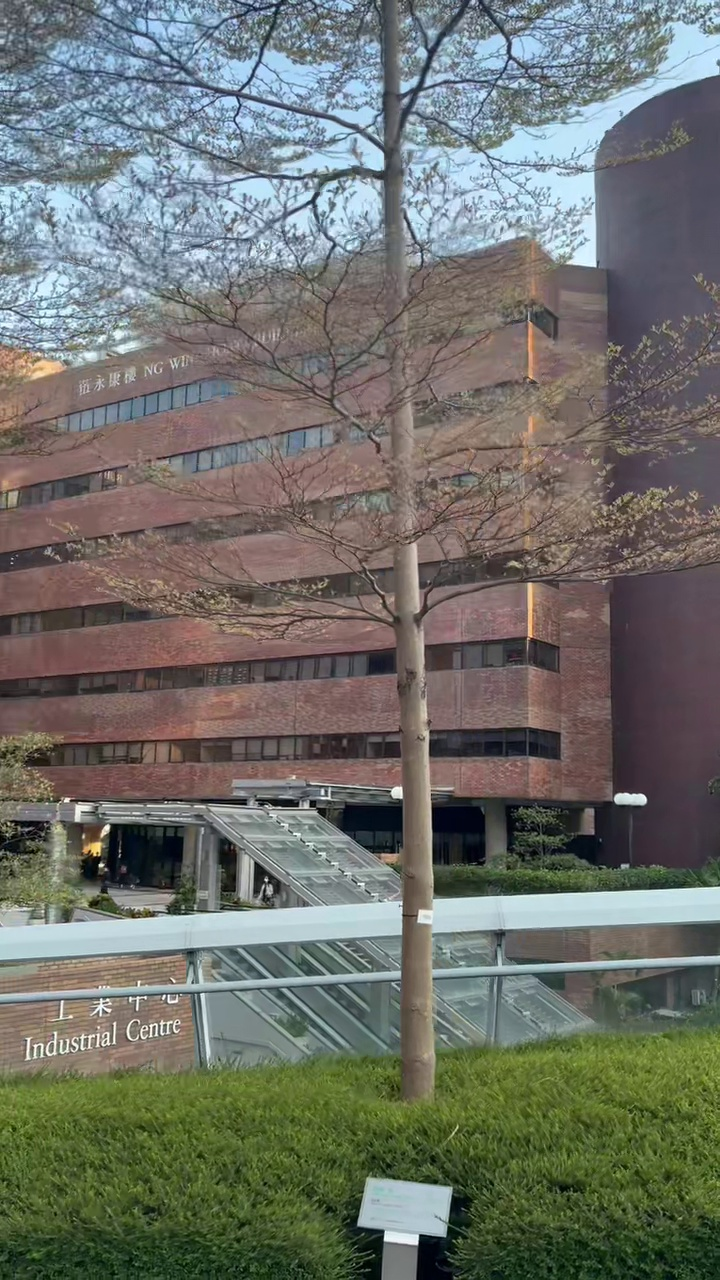Terminalia mantaly: (51, 0, 715, 1099)
